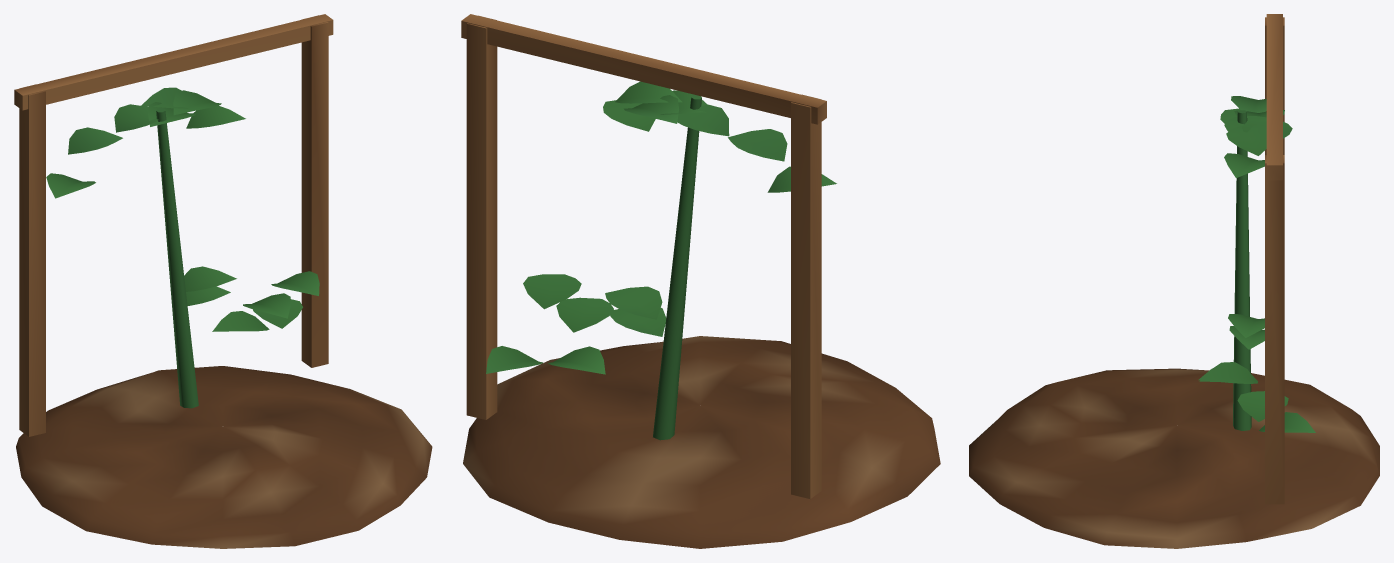
The model's file is plant-grape-3.gltf.
The picture shows the model from 3 angles, left to right: view 1: azimuth 30°, elevation 25°; view 2: azimuth 150°, elevation 25°; view 3: azimuth 270°, elevation 25°; orthographic projection. The views are drawn at different scales.
Size of the model in its own units: 1.28 by 1.26 by 1.26.
